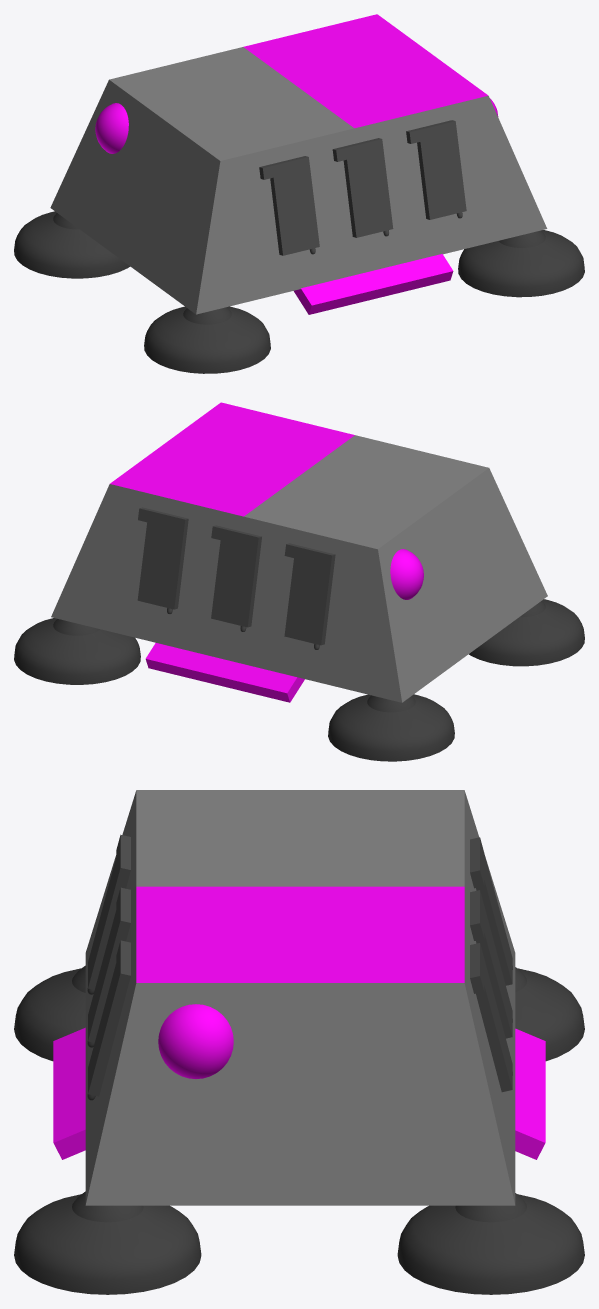
Rendered from Engineer.fbx.
3 renders of one model, top to bottom at view 1: azimuth 30°, elevation 25°; view 2: azimuth 150°, elevation 25°; view 3: azimuth 270°, elevation 25°, orthographic. The views are drawn at different scales.
Visible parts, largest first — view 1: Cube.026, Sphere.003, Cylinder.030, Cube.033, Sphere.002; view 2: Cube.026, Sphere.003, Cylinder.034, Cube.033, Sphere.002; view 3: Cube.026, Sphere.003, Cube.033, Cylinder.030, Cylinder.034, Sphere.001.
Part boxes in pixels (box(x1,y1,x2,y2)): Cube.026: box(50, 14, 547, 314); Sphere.003: box(14, 211, 584, 373); Cylinder.030: box(259, 120, 466, 255); Cube.033: box(294, 254, 453, 314); Sphere.002: box(95, 103, 128, 153); Cube.026: box(51, 402, 547, 702); Sphere.003: box(14, 599, 584, 761); Cylinder.034: box(137, 507, 335, 649); Cube.033: box(145, 643, 304, 702); Sphere.002: box(390, 549, 423, 599); Cube.026: box(85, 790, 515, 1205); Sphere.003: box(14, 965, 584, 1294); Cube.033: box(53, 1027, 545, 1159); Cylinder.030: box(87, 834, 130, 1100); Cylinder.034: box(470, 837, 512, 1092); Sphere.001: box(158, 1004, 233, 1078).
Size of the model in its own units: 283 by 111 by 224.
